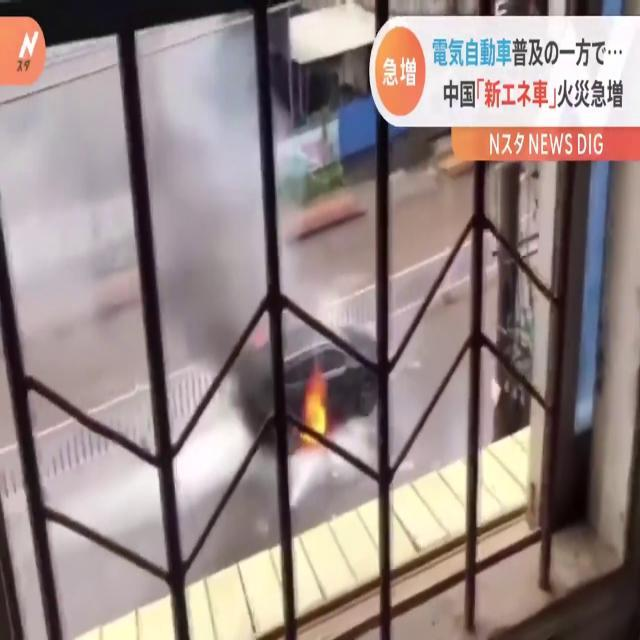Fire: (298, 364, 334, 450)
Smoke: (35, 8, 292, 411)
